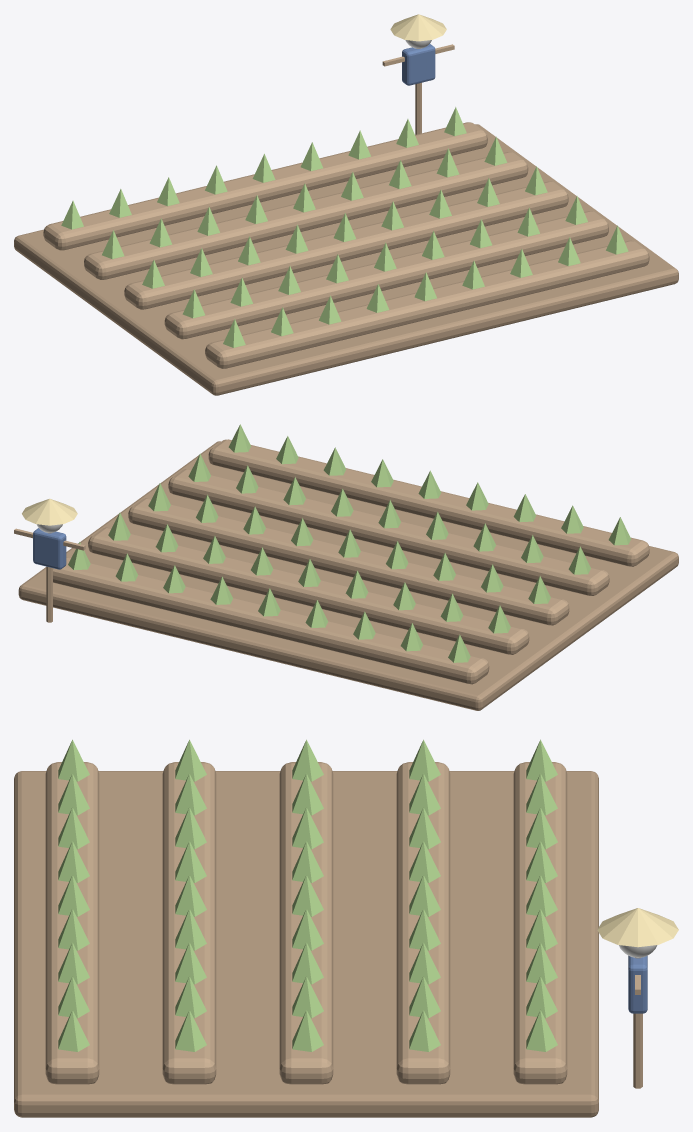
The model's file is field.glb.
The picture shows the model from 3 angles, top to bottom: view 1: azimuth 30°, elevation 25°; view 2: azimuth 150°, elevation 25°; view 3: azimuth 270°, elevation 25°; orthographic projection. The views are drawn at different scales.
Parts seen in each view (by area): view 1: field; view 2: field; view 3: field.
Part boxes in pixels (x1,y1,x2,y2): field: [14, 14, 678, 395]; field: [14, 424, 678, 710]; field: [14, 739, 678, 1117].
Size of the model in its own units: 8 by 2.03 by 6.82.
